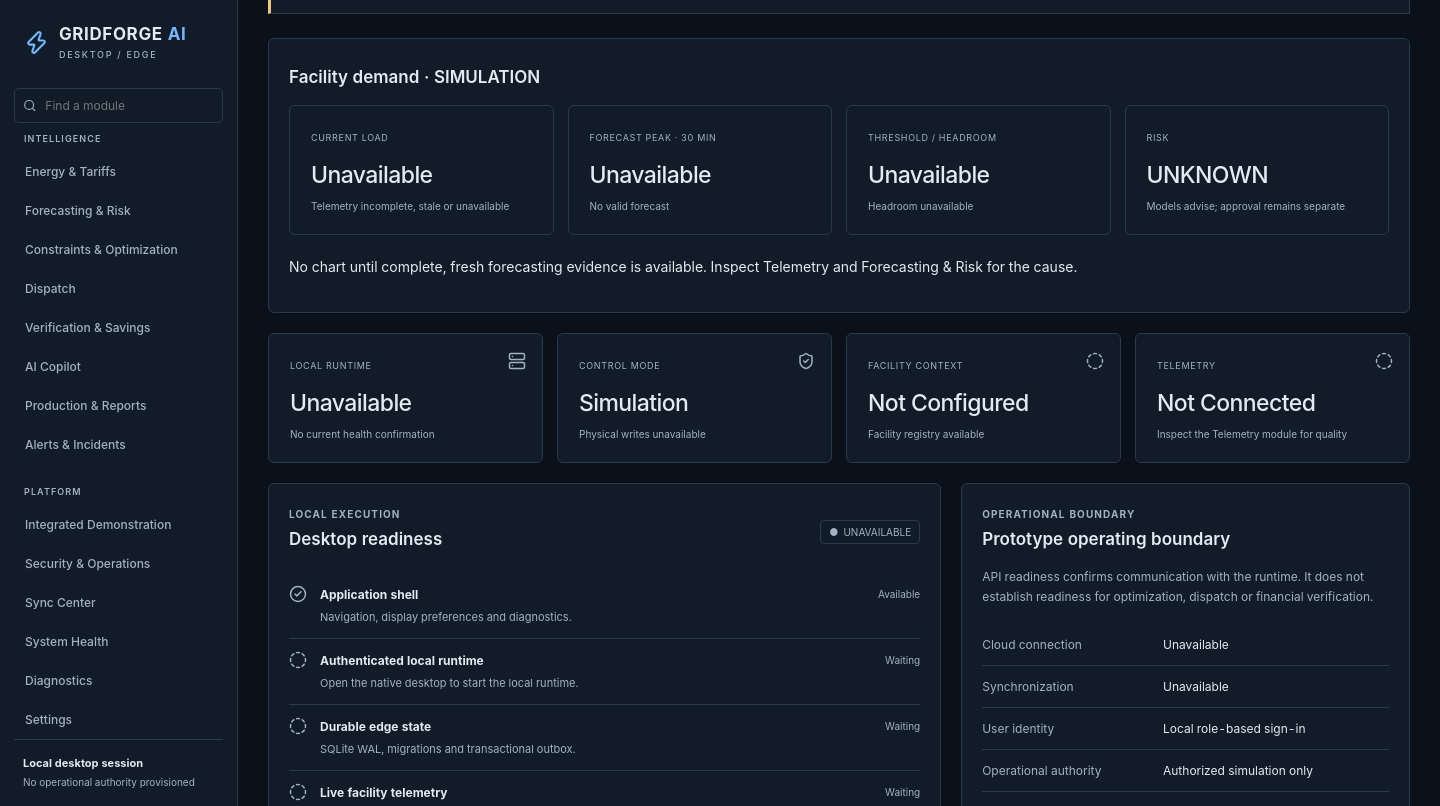
Test: Phase 1 desktop shell › disables lifecycle controls in browser preview
(page scrolled)
What coordinates should you click on to do the following:
click the button "System Health"
I would click on:
 (118, 642)
Its box is [14,623,223,660].
(page scrolled)
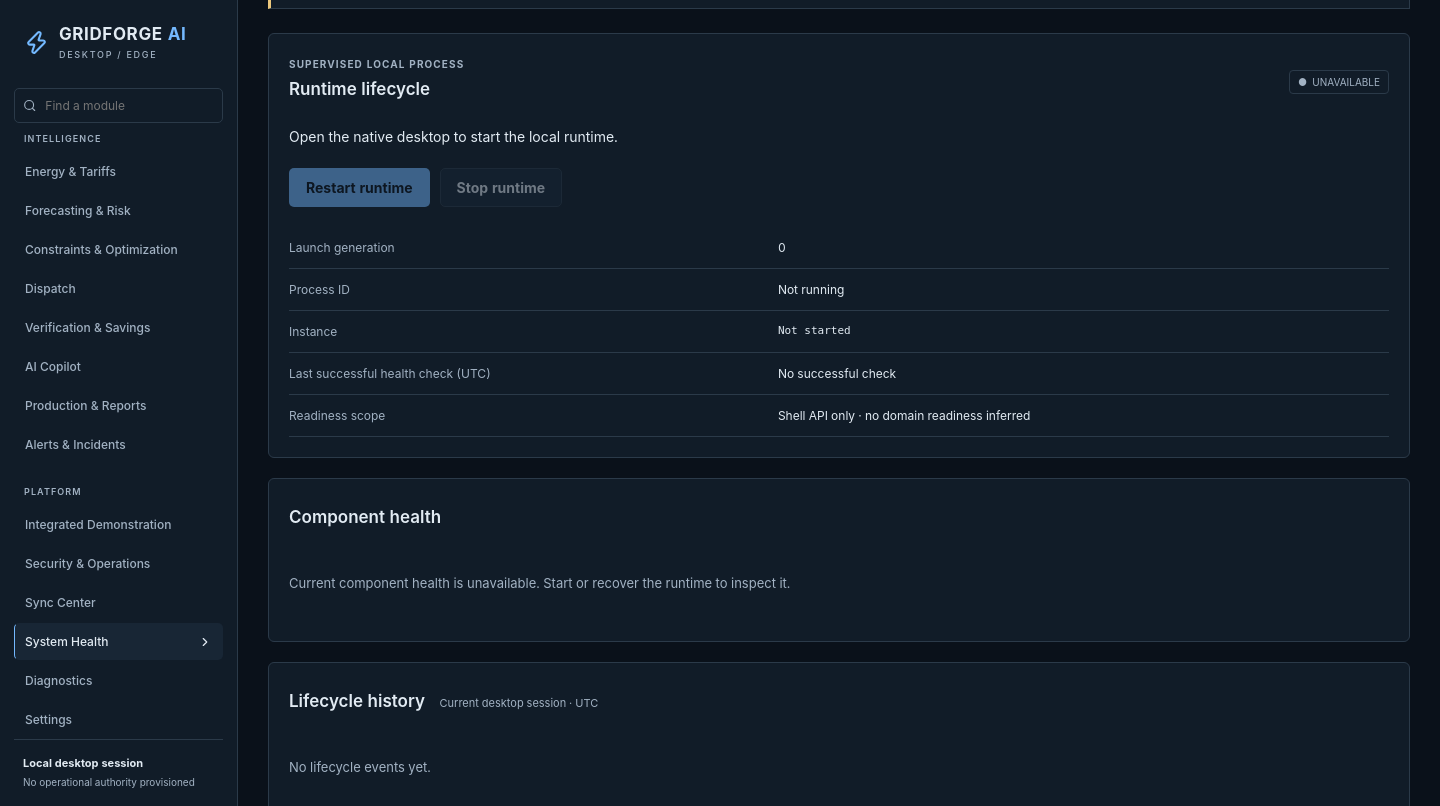
Check: the button "Restart runtime" is disabled, box [289,168,430,207]
